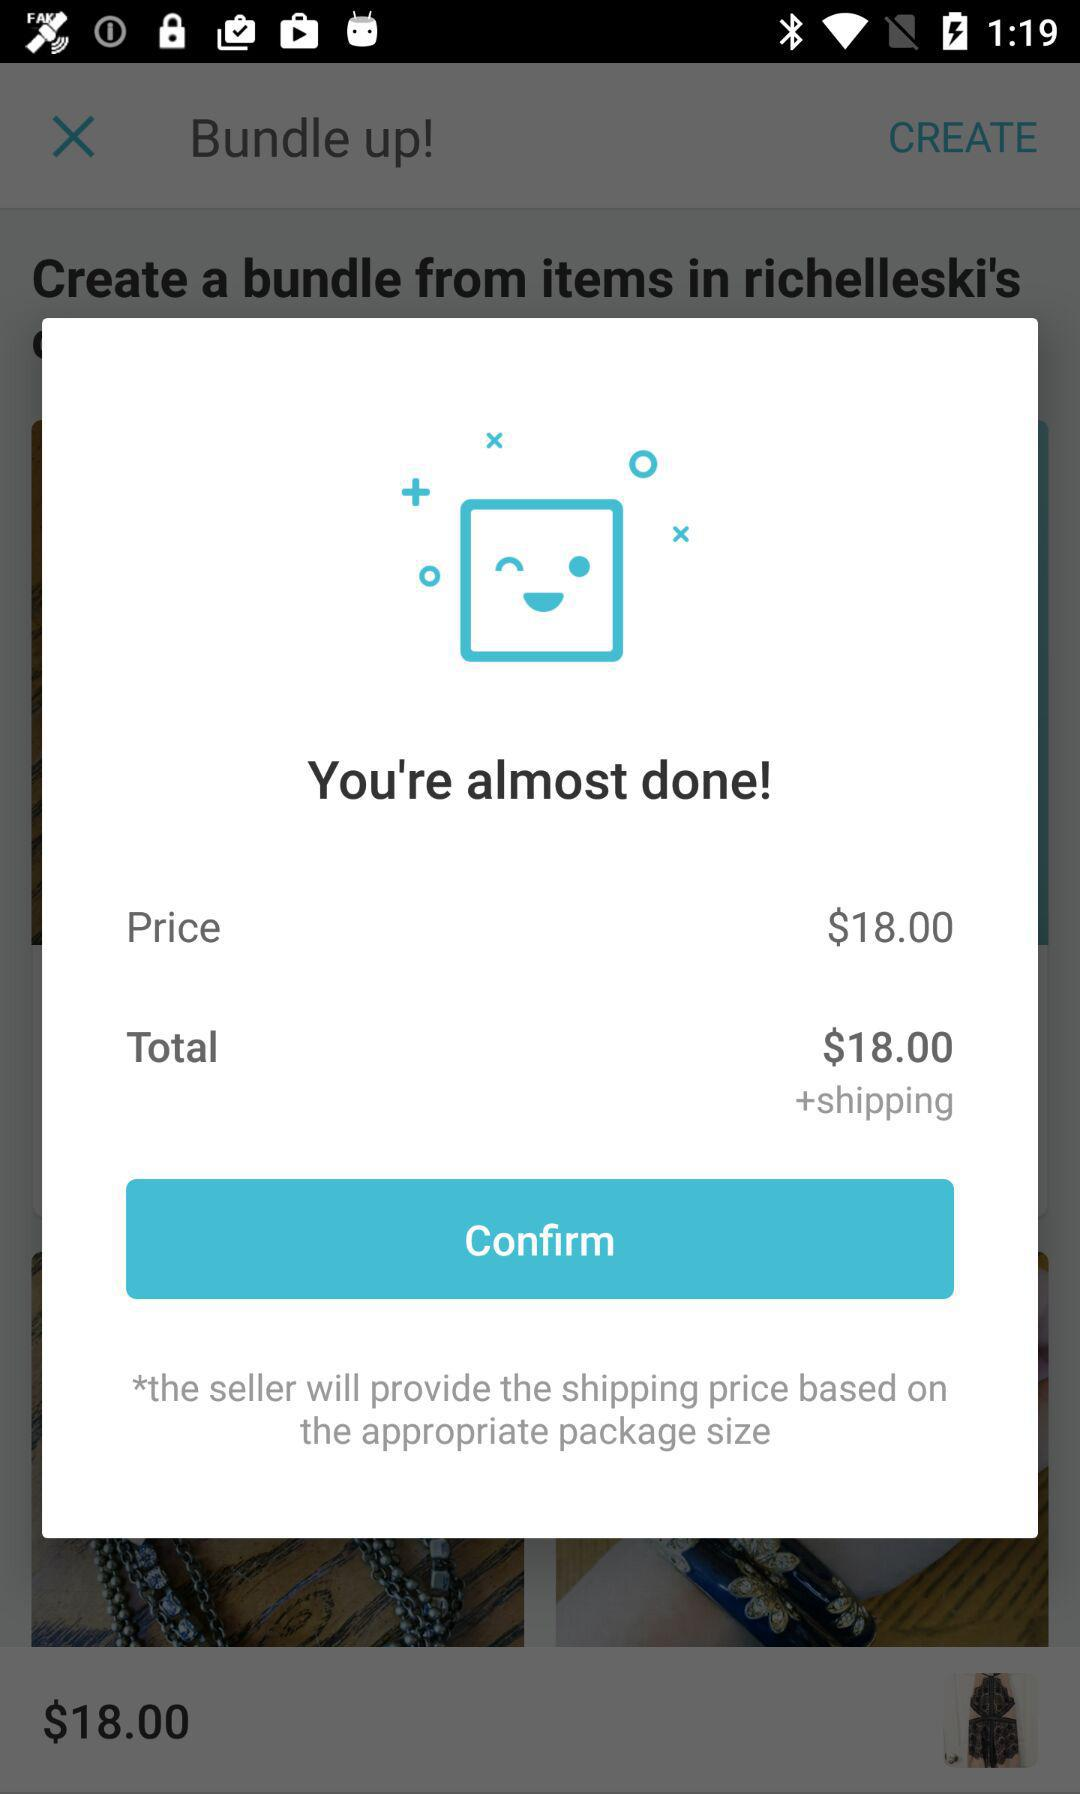Icon: (53, 117, 95, 159)
Image: (401, 432, 691, 664), (943, 1674, 1040, 1768)
Modal: (42, 318, 1039, 1539)
Text: (132, 1372, 947, 1452), (35, 258, 1021, 300), (307, 756, 771, 803), (192, 117, 433, 170), (44, 1698, 190, 1744), (796, 1084, 954, 1123), (822, 1026, 953, 1067), (828, 906, 953, 948), (889, 120, 1038, 155), (129, 910, 222, 944), (127, 1029, 218, 1064)
TextButton: (126, 1179, 954, 1299)
UpperTaskBar: (1, 1, 1080, 64)
